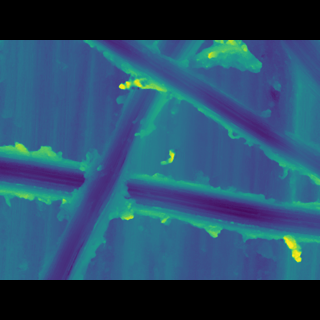Loch: (34, 69, 207, 250), (81, 70, 319, 175), (0, 149, 320, 224)
